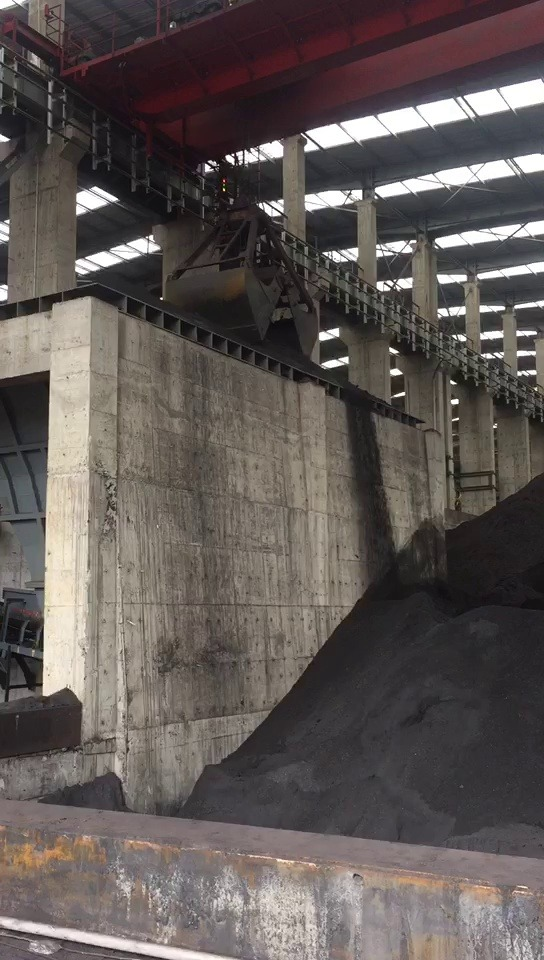grab: (157, 178, 326, 377)
